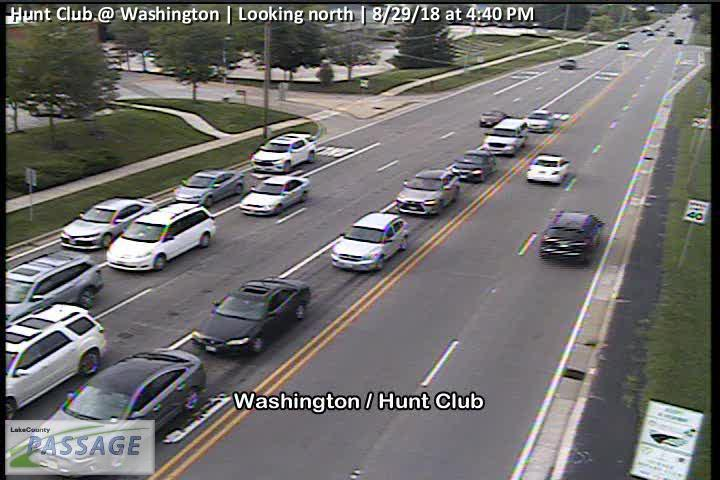SUV: (1, 302, 108, 421), (1, 249, 104, 328), (105, 202, 217, 272), (480, 117, 530, 156)
Sedan: (2, 349, 207, 477), (189, 277, 310, 357), (59, 197, 158, 249), (329, 214, 410, 272), (538, 211, 602, 266), (239, 174, 311, 217), (251, 129, 318, 175), (396, 169, 461, 214), (171, 170, 245, 209), (449, 149, 496, 184), (526, 154, 572, 184), (525, 108, 554, 133), (478, 110, 507, 127)
